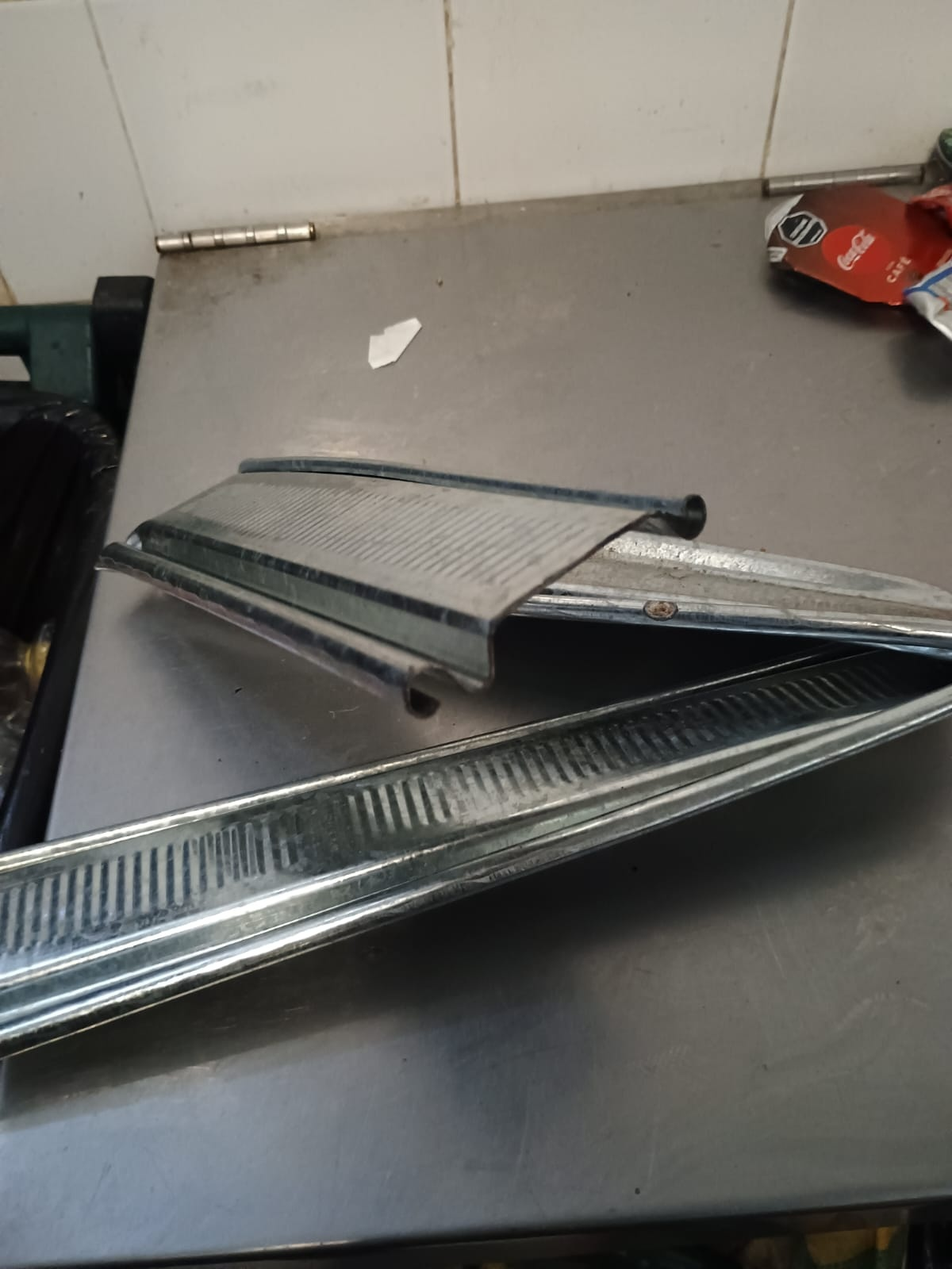Metal: (0, 651, 947, 1069), (108, 457, 945, 646)
